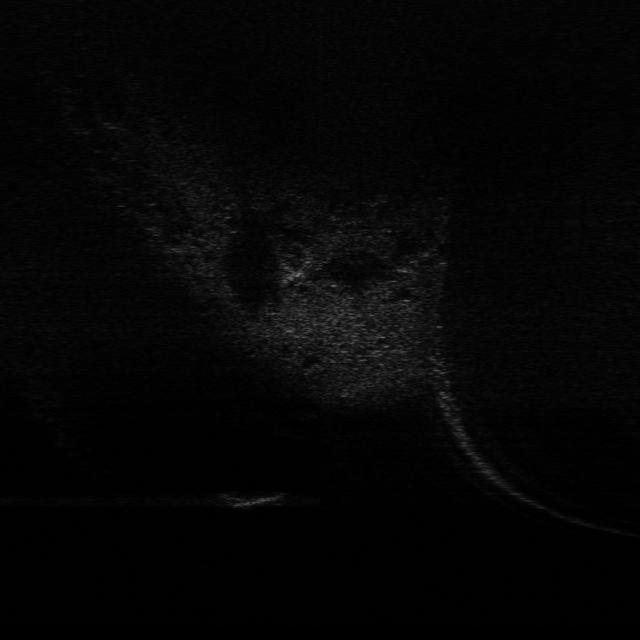cube: (217, 488, 289, 514)
